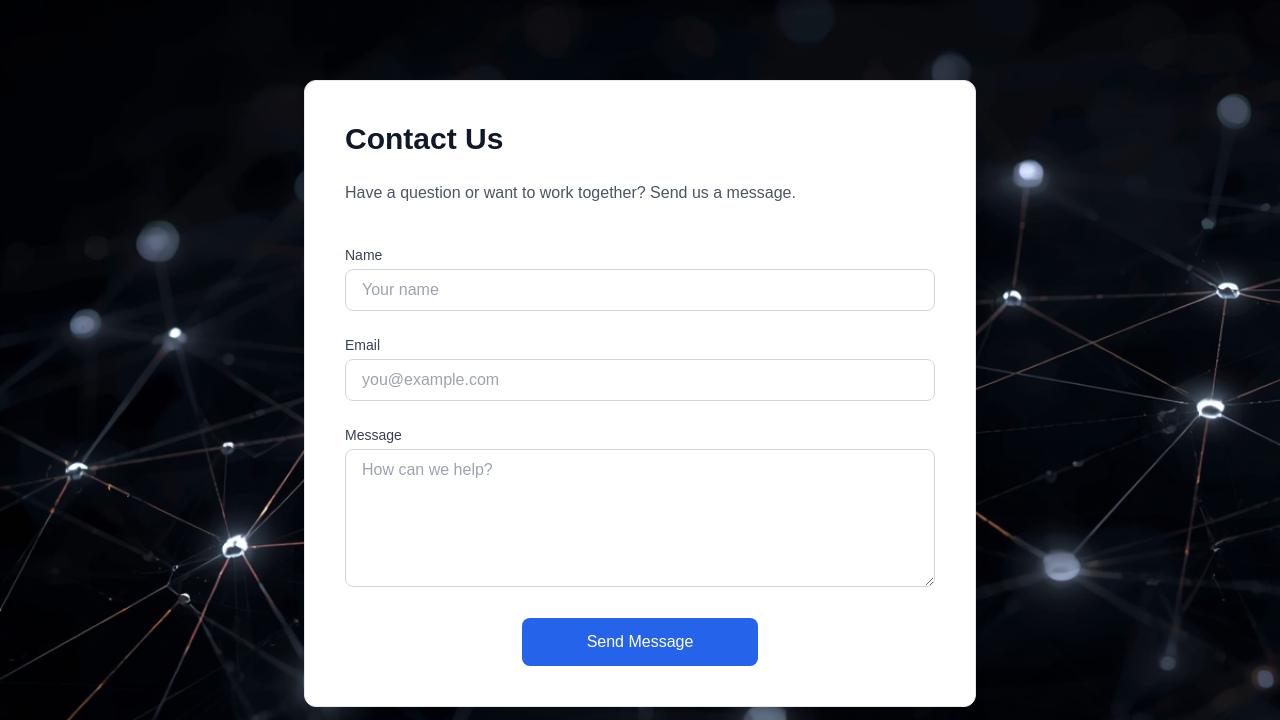
Contact Page › shows error message when submission fails
This screenshot has width=1280, height=720.
Step 1. Type "John" into the field with placeholder "Your name" → (640, 290), box top-left (345, 269), bottom-right (935, 311)
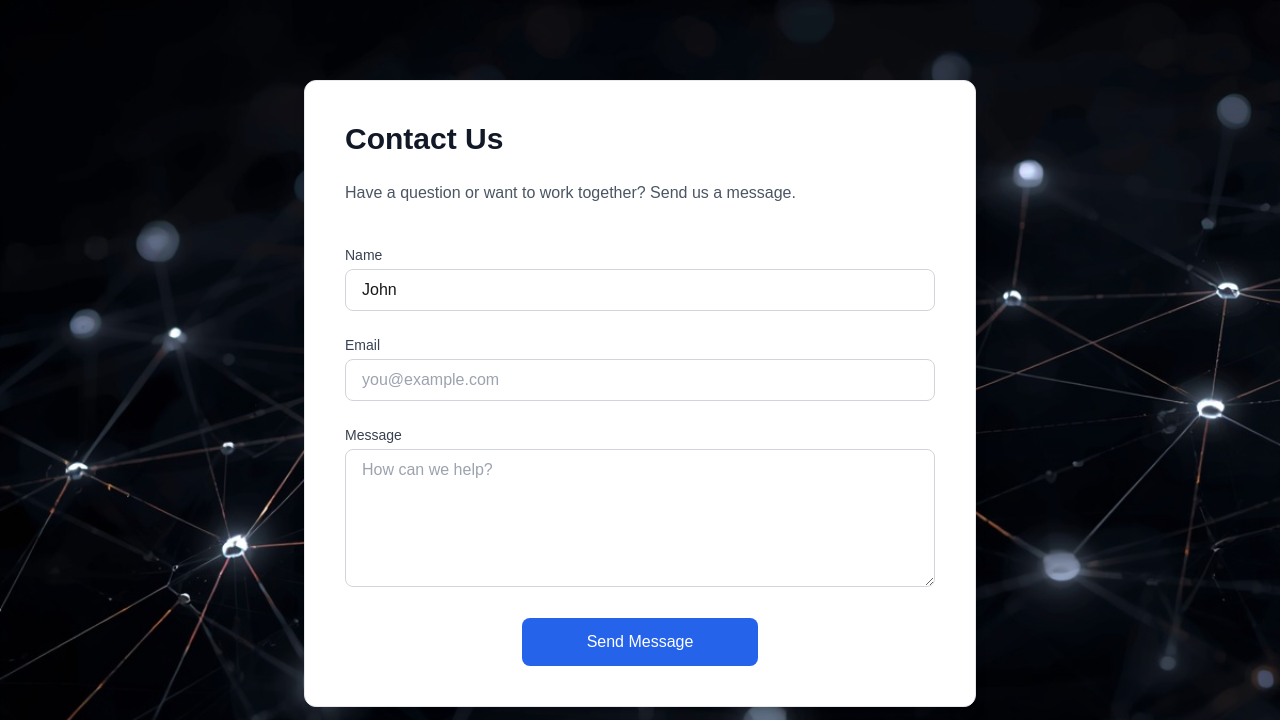
Step 2. Type "john@example.com" into the field with placeholder "you@example.com" → (640, 380), box top-left (345, 359), bottom-right (935, 401)
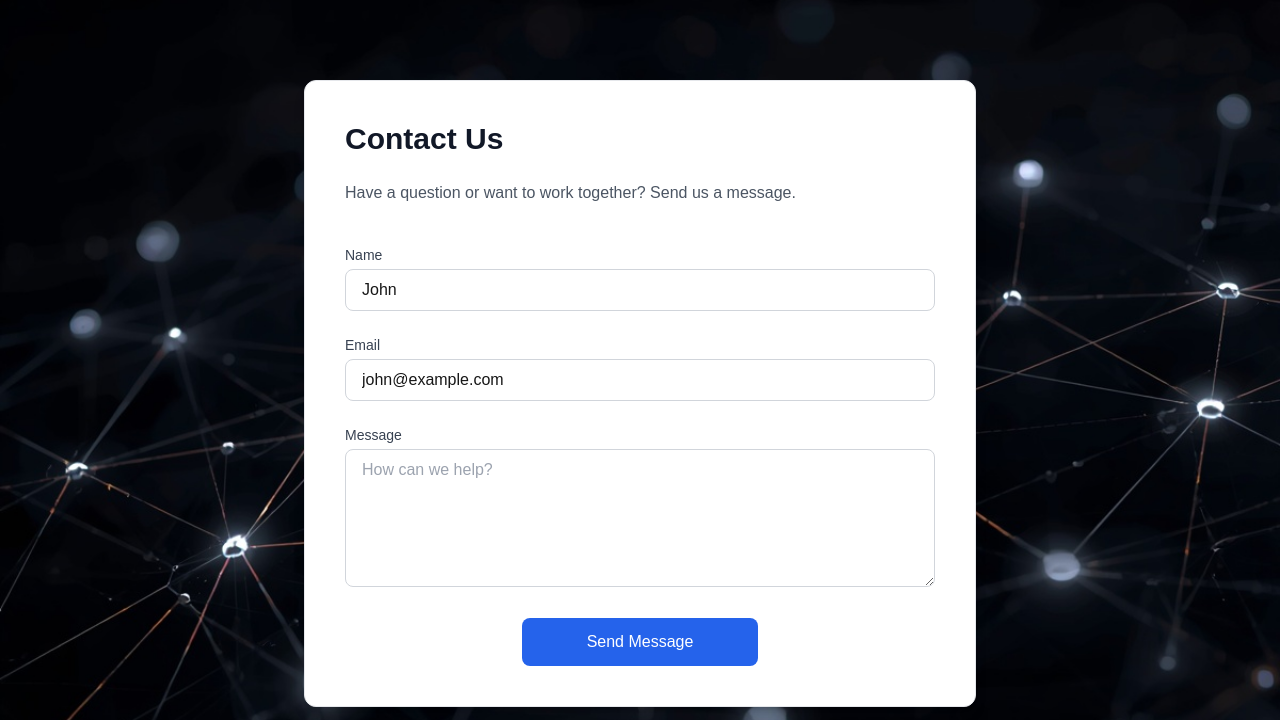
Step 3. Type "Hello" into the text box with placeholder "How can we help?" → (640, 518), box top-left (345, 449), bottom-right (935, 587)
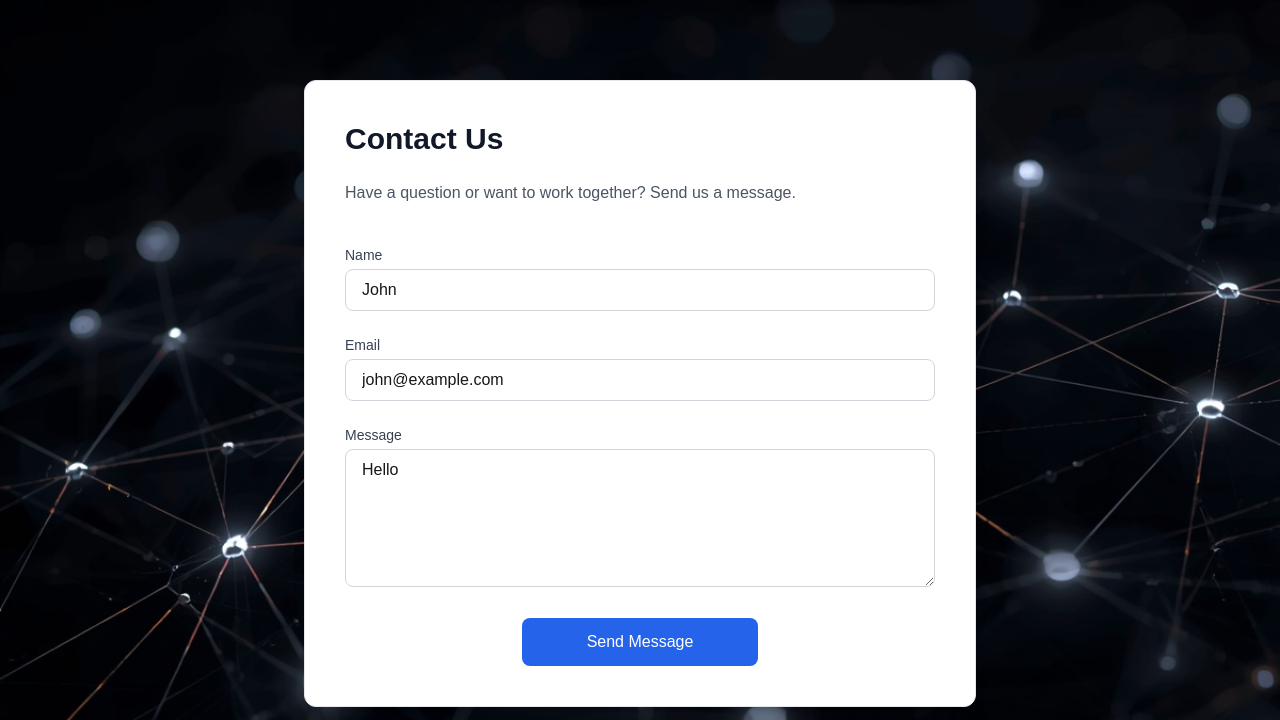
Step 4. Click the button "Send Message" → click(640, 642), box top-left (522, 618), bottom-right (758, 666)
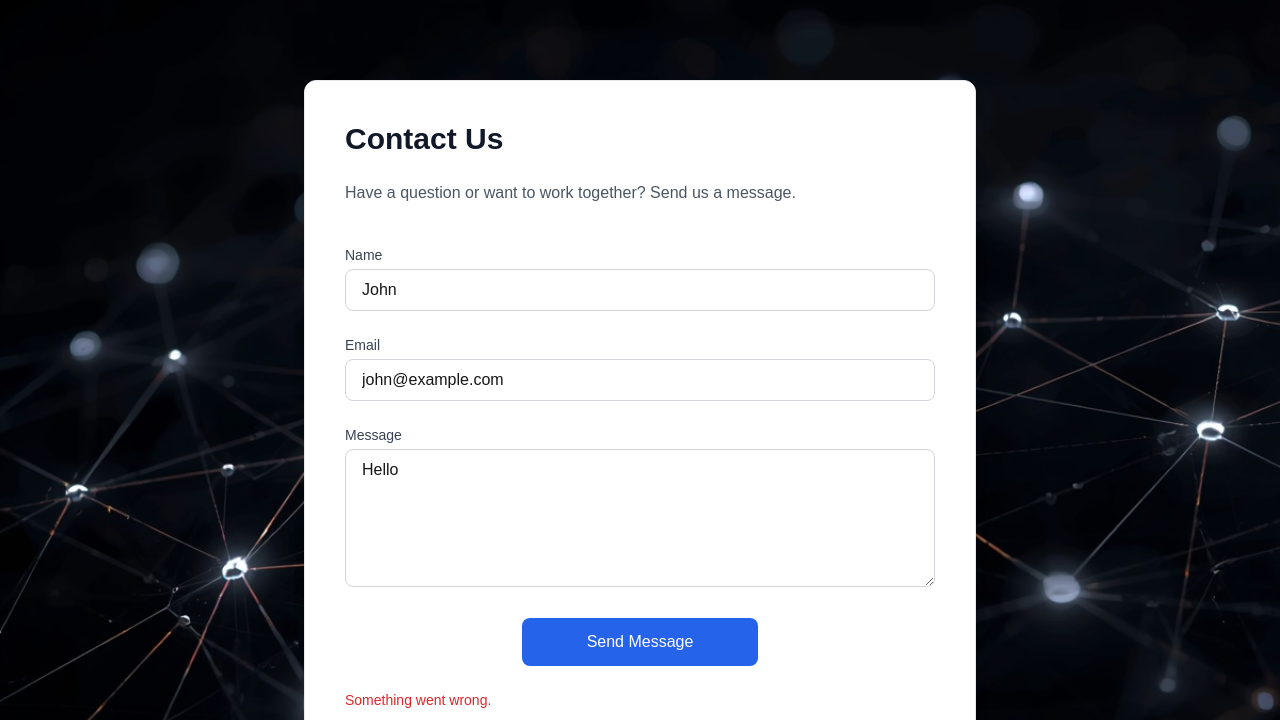
Expected: the text "Something went wrong." is shown, top-left (345, 692), bottom-right (491, 708)
